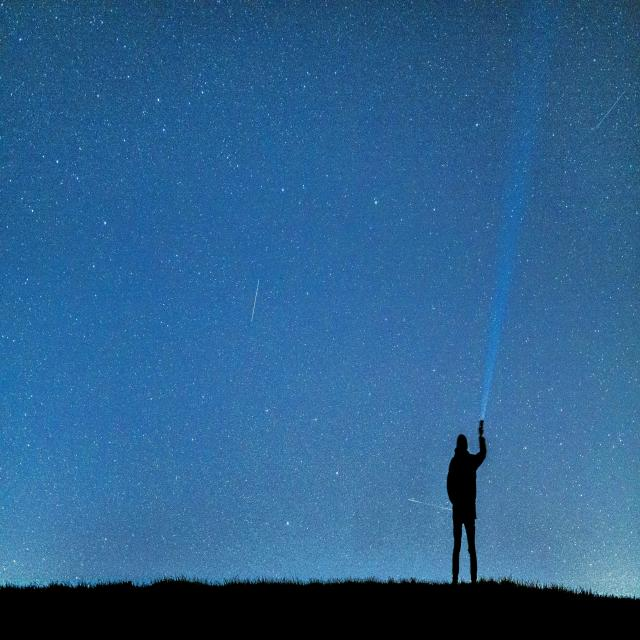stand: (438, 418, 488, 583)
